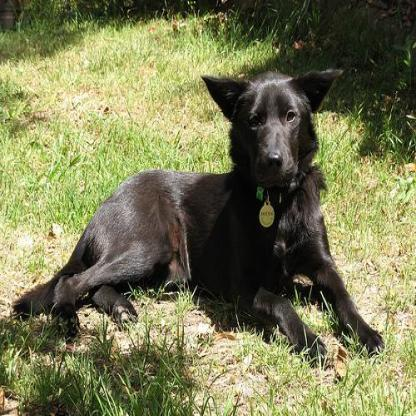kelpie: (13, 67, 385, 372)
